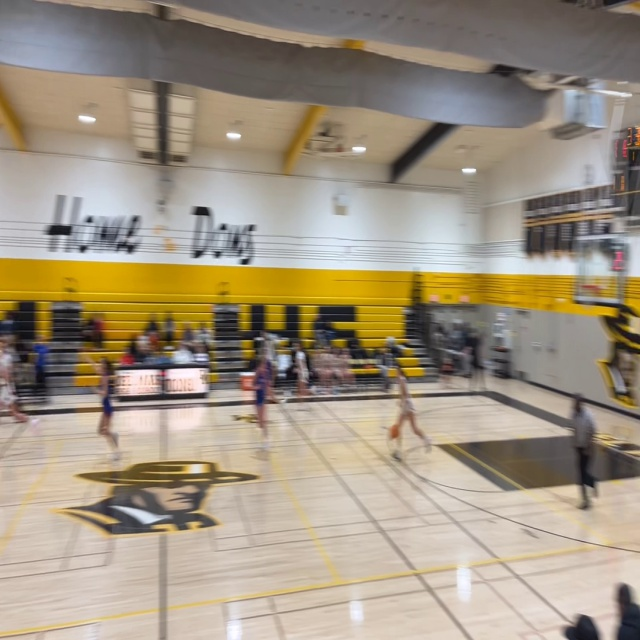Basketball: (388, 424, 399, 439)
